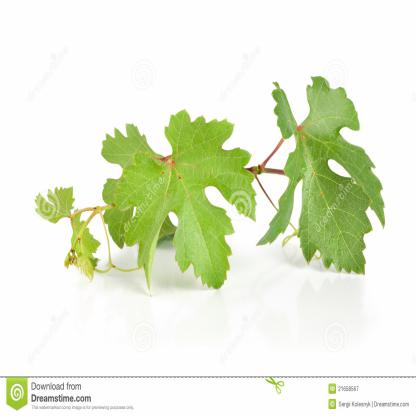grape leaf: (102, 97, 259, 306), (258, 75, 390, 281)
